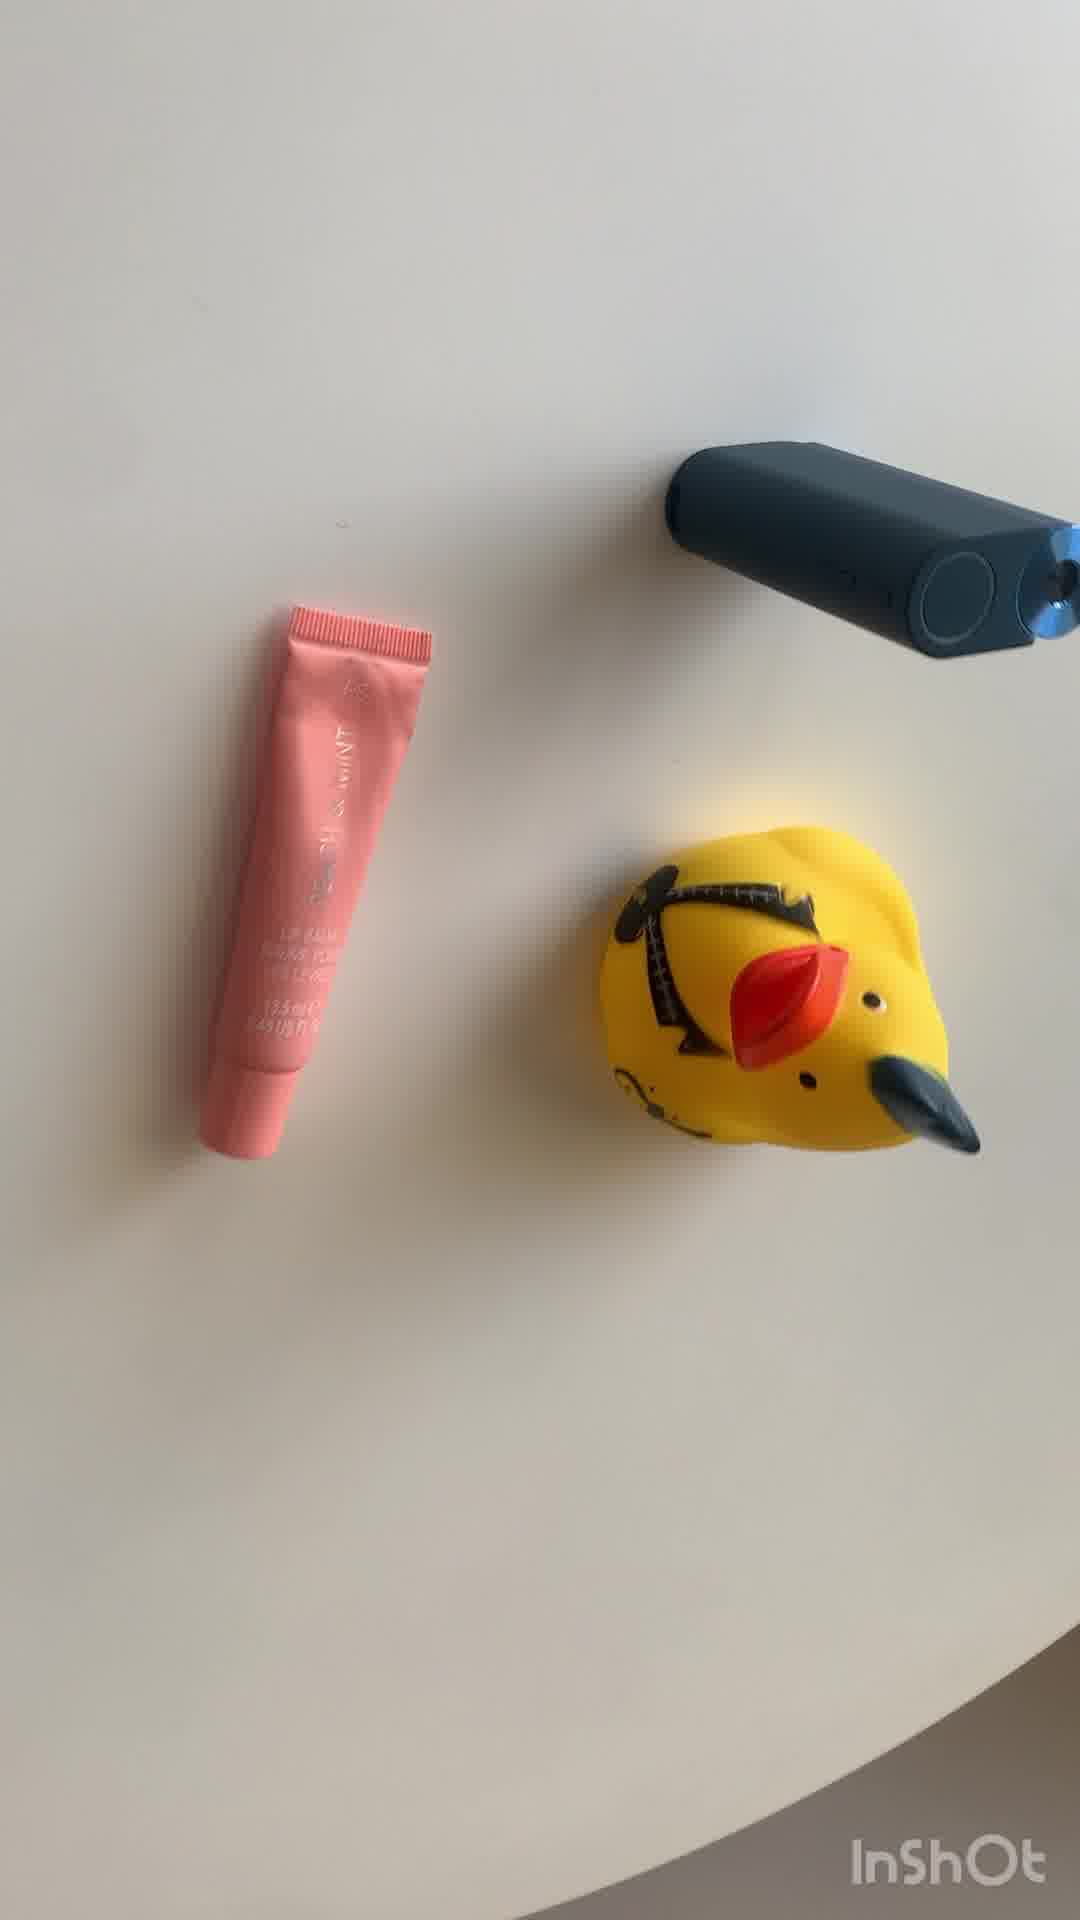duck: (597, 823, 986, 1164)
glo: (665, 429, 1080, 662)
lip balm: (177, 628, 446, 1172)
